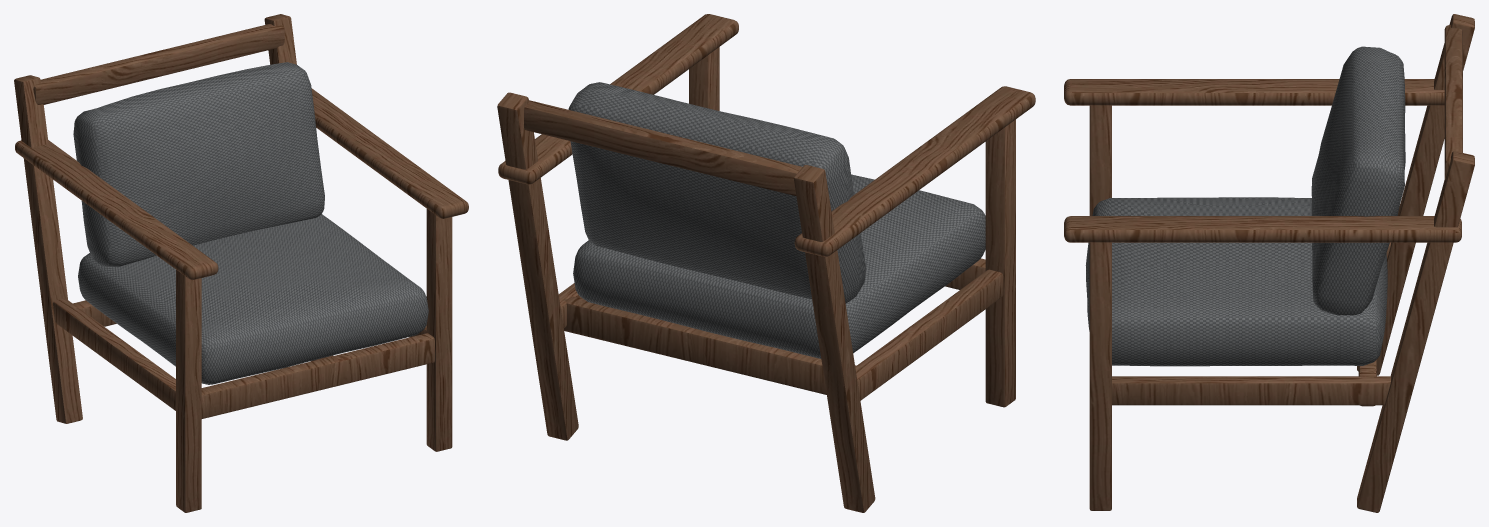
Rendered from butaca_madera_nogal.glb.
The picture shows the model from 3 angles, left to right: view 1: azimuth 30°, elevation 25°; view 2: azimuth 150°, elevation 25°; view 3: azimuth 270°, elevation 25°; orthographic projection. The views are drawn at different scales.
Parts seen in each view (by area): view 1: butaca_madera_nogal; view 2: butaca_madera_nogal; view 3: butaca_madera_nogal.
Boxes of the visible parts, x1=… form: butaca_madera_nogal: x1=14, y1=14, x2=468, y2=512; butaca_madera_nogal: x1=497, y1=14, x2=1035, y2=512; butaca_madera_nogal: x1=1064, y1=14, x2=1474, y2=512.
Size of the model in its own units: 0.695 by 0.7459 by 0.7845.
2 materials, 2 textured.
